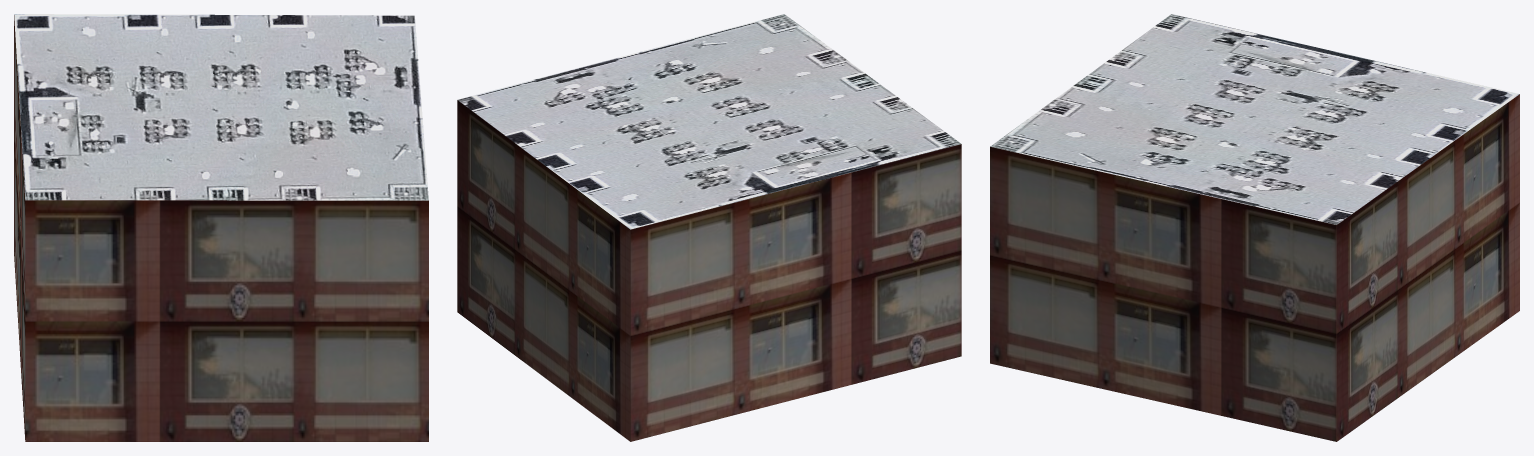
File: ResTex__2858.fbx
3 renders of one model, left to right at view 1: azimuth 30°, elevation 25°; view 2: azimuth 150°, elevation 25°; view 3: azimuth 270°, elevation 25°, orthographic. The views are drawn at different scales.
Parts seen in each view (by area): view 1: CityEngineMaterial_13_m, CityEngineMaterial_m; view 2: CityEngineMaterial_13_m, CityEngineMaterial_m; view 3: CityEngineMaterial_13_m, CityEngineMaterial_m.
Boxes of the visible parts, x1,y1,x2,y2 form: CityEngineMaterial_13_m: (14,15,428,441); CityEngineMaterial_m: (14,14,428,200); CityEngineMaterial_13_m: (457,100,961,441); CityEngineMaterial_m: (457,14,961,229); CityEngineMaterial_13_m: (990,94,1519,441); CityEngineMaterial_m: (990,14,1519,224).
Bounding box in the file's own units: 12.52 × 6 × 13.28.
2 materials, 2 textured.
